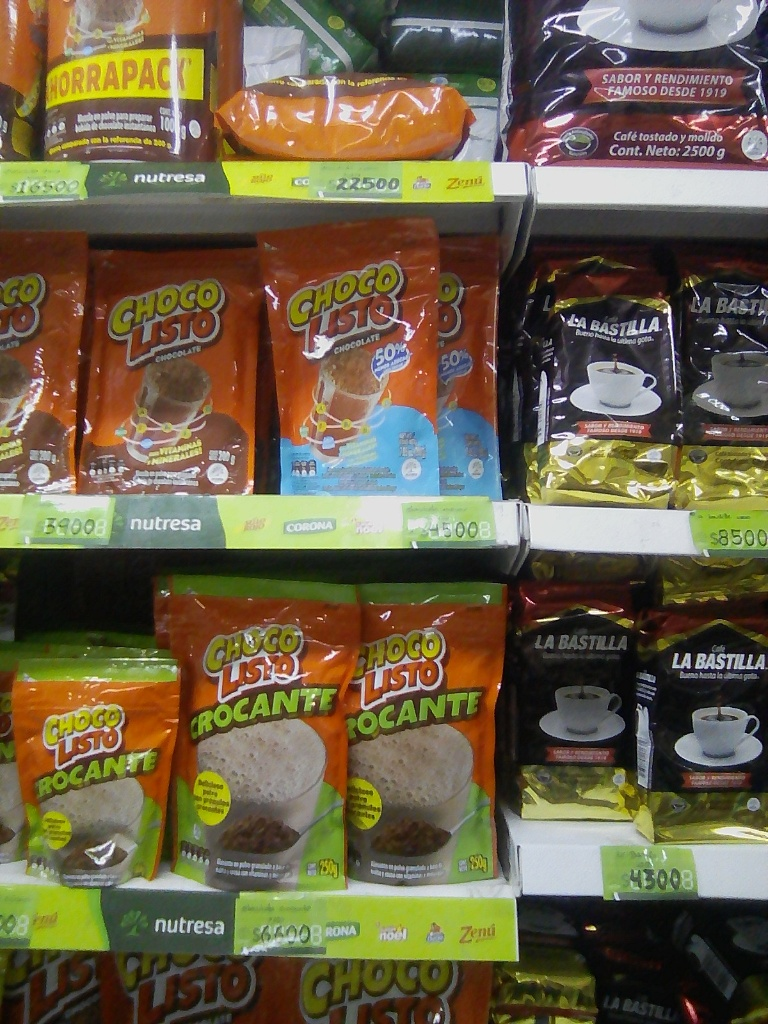COL0170102DYP10000: (16, 661, 180, 888)
COL0170102DYP25000: (172, 578, 350, 894)
COL0170103DYP20000: (81, 250, 257, 495)
COL0170104DYP20000: (255, 220, 442, 499)
